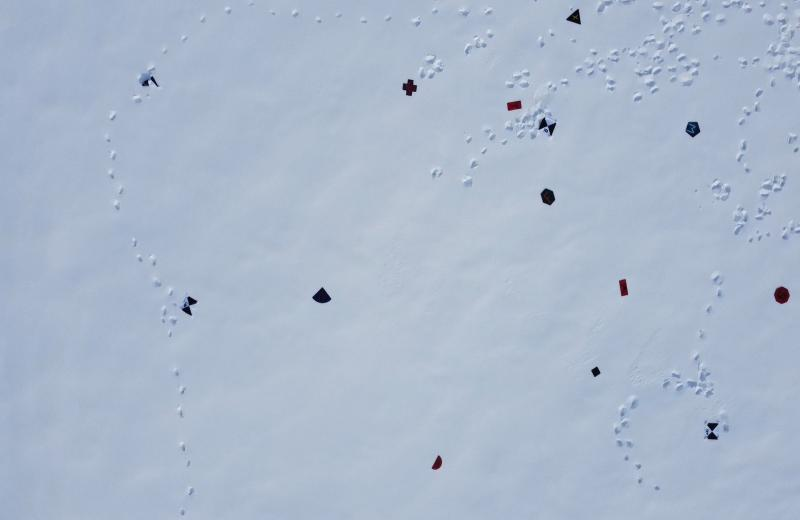Cross: (402, 78, 417, 97)
Hexagon: (541, 187, 555, 206)
Octagon: (774, 286, 790, 305)
Pentagon: (685, 120, 701, 140)
Quarter Circle: (311, 285, 331, 307)
Rectangle: (618, 278, 630, 298), (506, 99, 522, 112)
Semi Circle: (430, 455, 444, 471)
Square: (590, 366, 601, 378)
Triangle: (566, 8, 582, 27)
